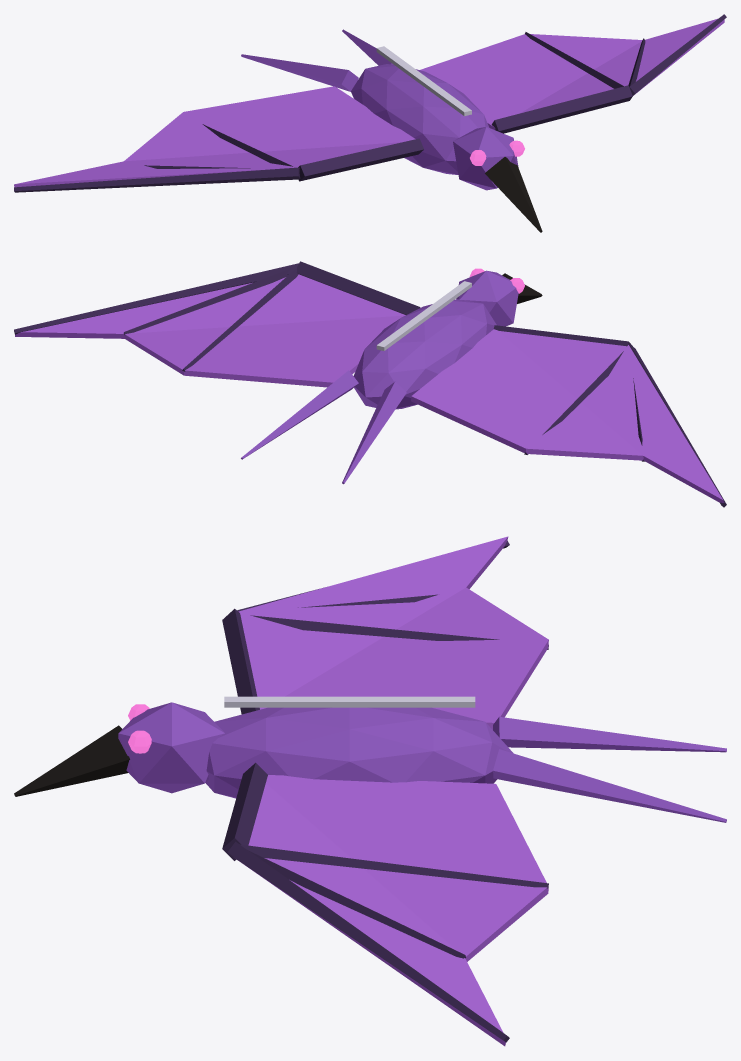
File: exo-skimmerwing.glb
3 renders of one model, top to bottom at view 1: azimuth 30°, elevation 25°; view 2: azimuth 150°, elevation 25°; view 3: azimuth 270°, elevation 25°, orthographic. The views are drawn at different scales.
Parts seen in each view (by area): view 1: body; view 2: body; view 3: body.
Part boxes in pixels (box(x1,y1,x2,y2)): body: box(14, 14, 726, 232); body: box(14, 261, 726, 507); body: box(14, 536, 726, 1046).
Size of the model in its own units: 5.63 by 0.58 by 3.41.
